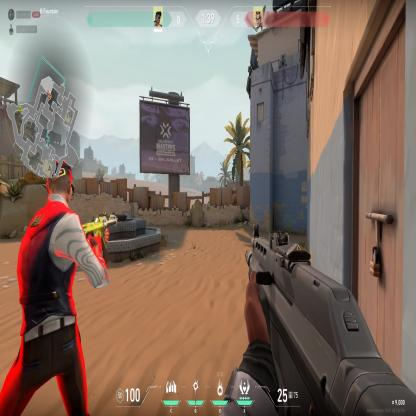enemy: (0, 160, 110, 416)
